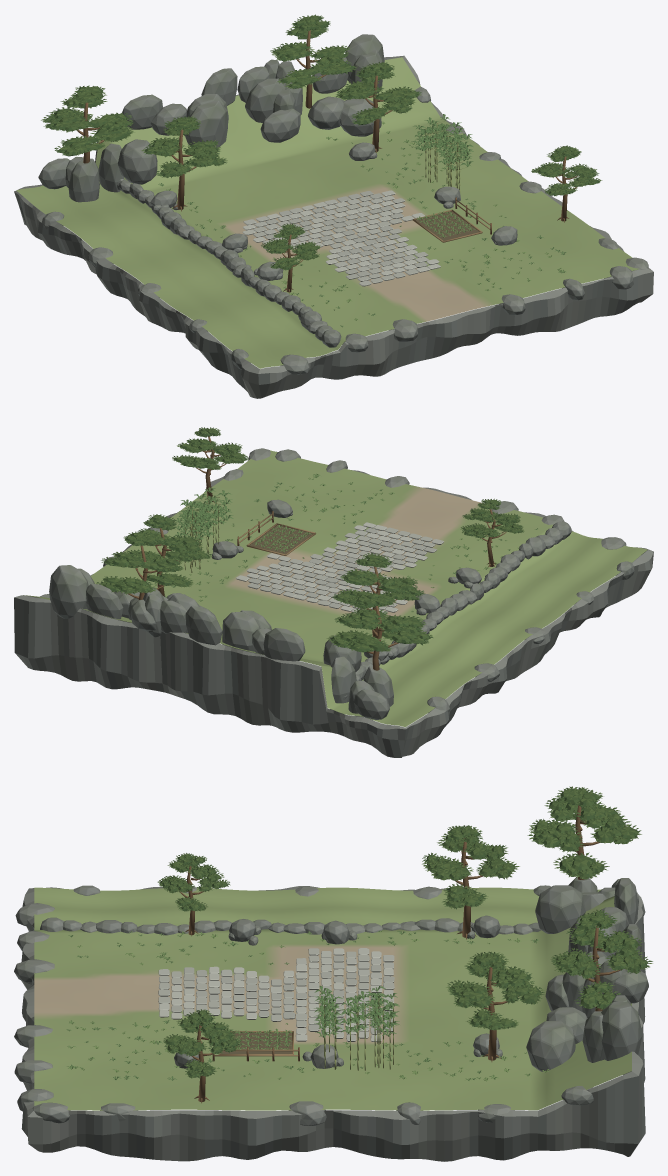
Rendered from landscape.glb.
The picture shows the model from 3 angles, top to bottom: view 1: azimuth 30°, elevation 25°; view 2: azimuth 150°, elevation 25°; view 3: azimuth 270°, elevation 25°; orthographic projection. The views are drawn at different scales.
Visible parts, largest first — view 1: TerrainSurface, LandscapeDetails, CourtyardPaving; view 2: LandscapeDetails, TerrainSurface, CourtyardPaving; view 3: LandscapeDetails, TerrainSurface, CourtyardPaving.
Part boxes in pixels (x1=…): TerrainSurface: x1=16, y1=57, x2=639, y2=368; LandscapeDetails: x1=14, y1=14, x2=653, y2=398; CourtyardPaving: x1=242, y1=190, x2=440, y2=286; LandscapeDetails: x1=14, y1=427, x2=653, y2=757; TerrainSurface: x1=23, y1=450, x2=647, y2=727; CourtyardPaving: x1=236, y1=522, x2=443, y2=613; LandscapeDetails: x1=14, y1=786, x2=652, y2=1161; TerrainSurface: x1=34, y1=887, x2=631, y2=1110; CourtyardPaving: x1=158, y1=948, x2=394, y2=1041.
Bounding box in the file's own units: 34.68 × 11.89 × 37.48.
